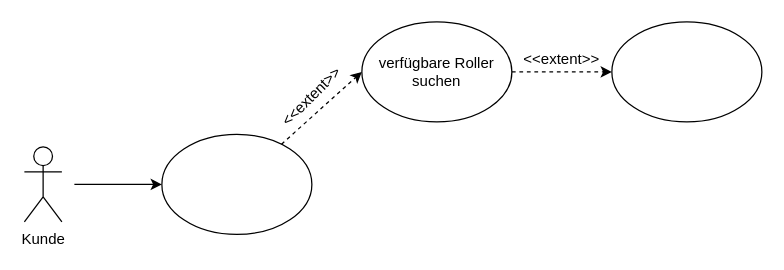
The diagram is 784 pixels wide and 270 high, and some of its shapes have lost their labels. Each missing label, with the centre of its shape:
"Roller mieten" belongs at (x=236, y=183).
"verfügbaren Zeitraum suchen" belongs at (x=686, y=71).
